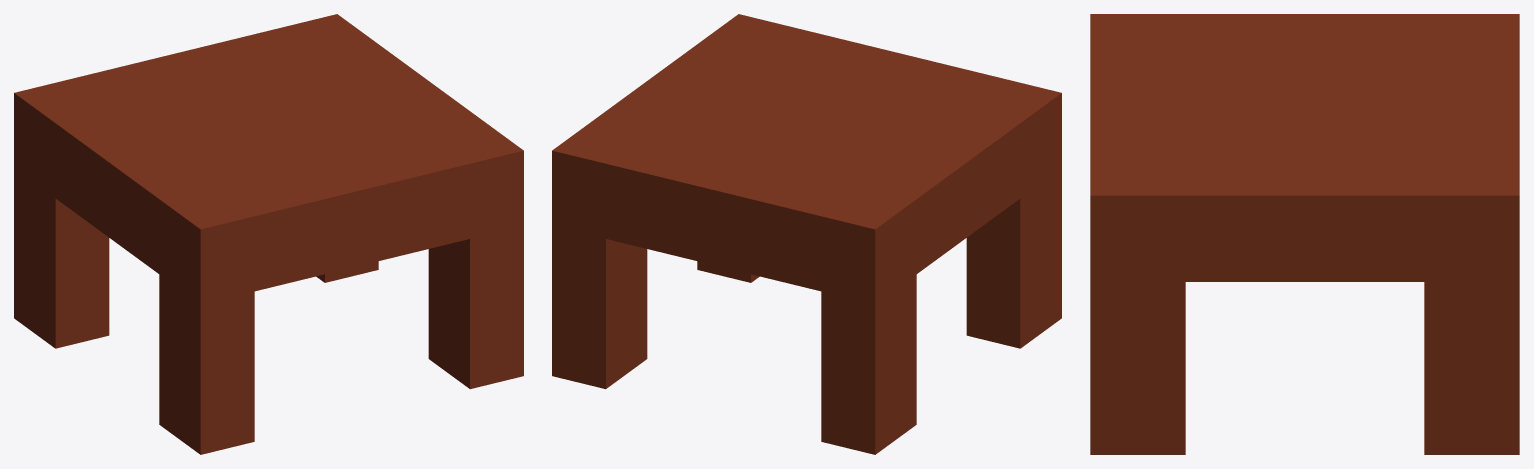
Rendered from table.dae.
The picture shows the model from 3 angles, left to right: view 1: azimuth 30°, elevation 25°; view 2: azimuth 150°, elevation 25°; view 3: azimuth 270°, elevation 25°; orthographic projection. The views are drawn at different scales.
Parts seen in each view (by area): view 1: base (×5); view 2: base (×5); view 3: base (×3).
Boxes of the visible parts, <box> form: base (×5): <box>14,14,523,454</box>; base (×5): <box>552,14,1061,454</box>; base (×3): <box>1090,14,1519,454</box>.
Size of the model in its own units: 0.9 by 0.9 by 0.6.
